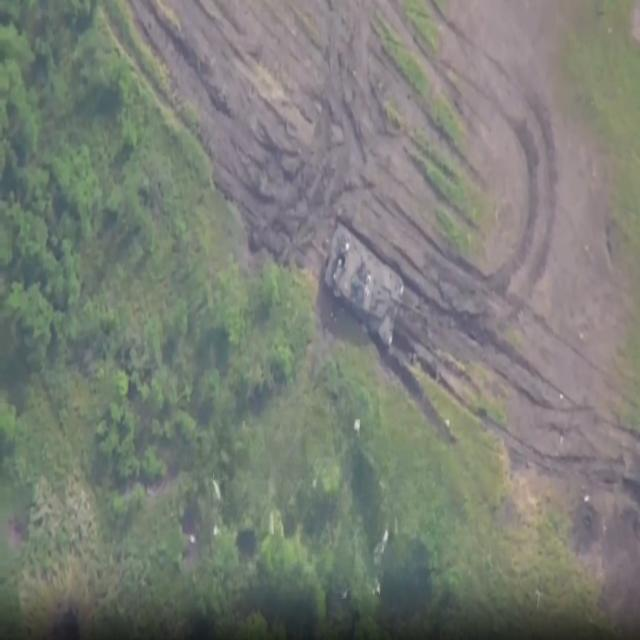MBT: (327, 223, 431, 354)
